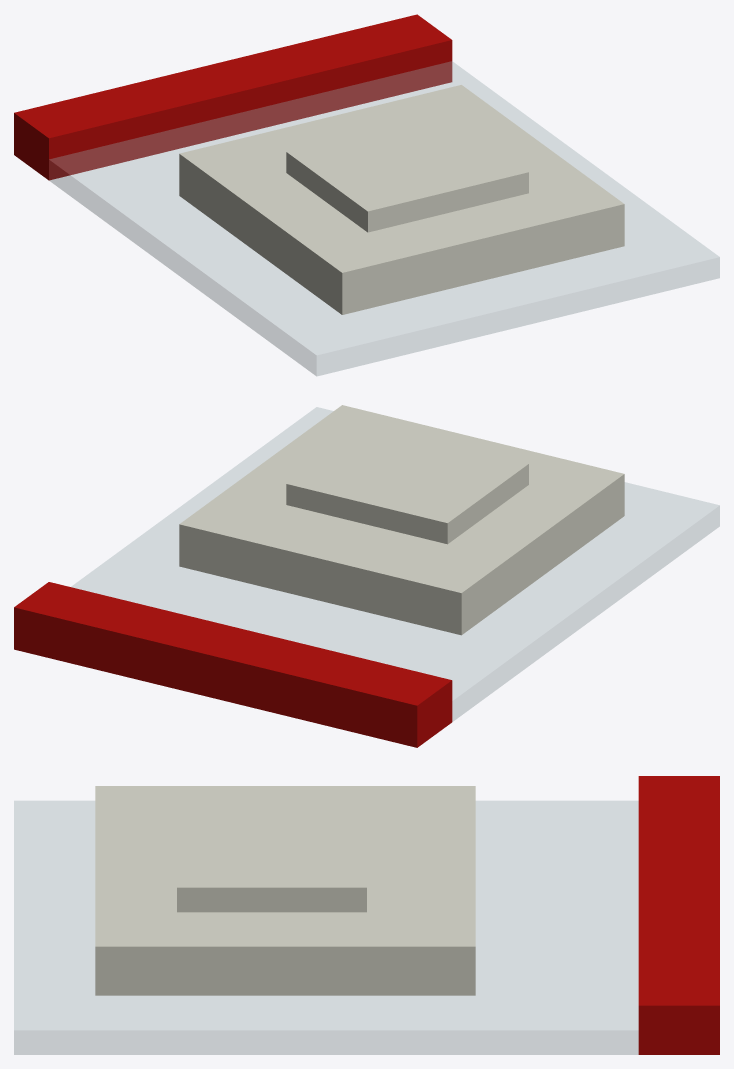
The model's file is cocaine.glb.
The picture shows the model from 3 angles, top to bottom: view 1: azimuth 30°, elevation 25°; view 2: azimuth 150°, elevation 25°; view 3: azimuth 270°, elevation 25°; orthographic projection. The views are drawn at different scales.
Parts seen in each view (by area): view 1: cocaine:compound; view 2: cocaine:compound; view 3: cocaine:compound.
Part boxes in pixels (left/top/right/bottom): cocaine:compound: left=14, top=14, right=719, bottom=376; cocaine:compound: left=14, top=405, right=719, bottom=747; cocaine:compound: left=14, top=776, right=719, bottom=1054.
Size of the model in its own units: 0.04 by 0.008 by 0.052.
